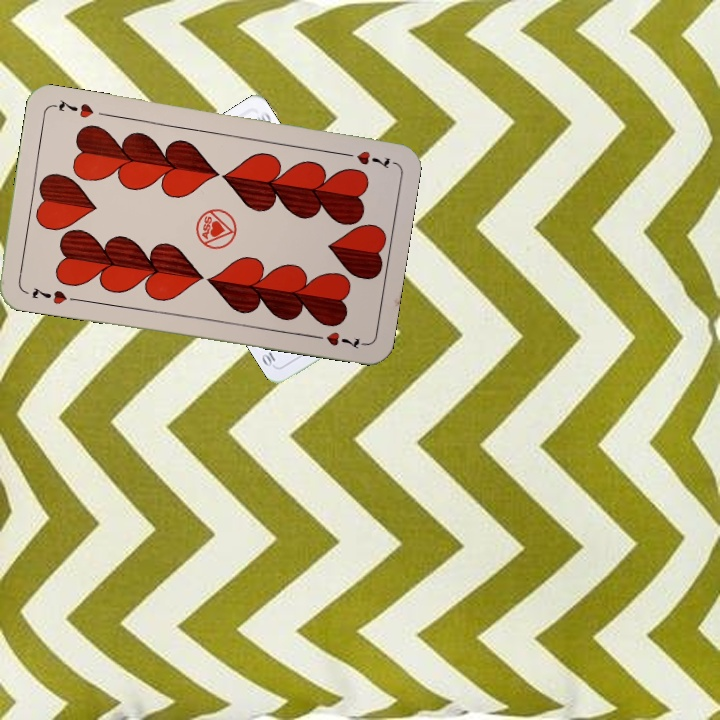H7: (337, 147, 396, 172), (28, 283, 81, 307)
